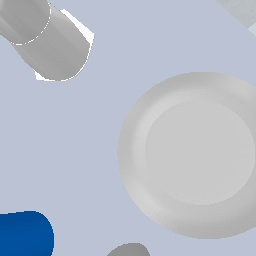Plate: (116, 69, 256, 243)
